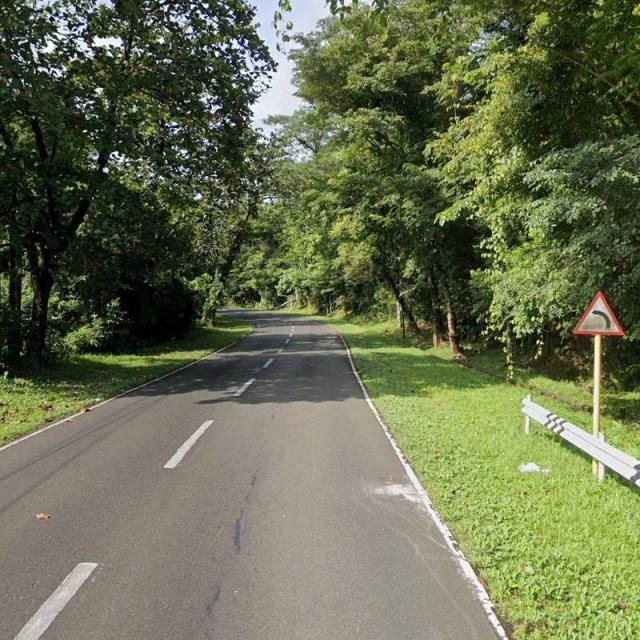warn_left_curve: (574, 291, 625, 335)
